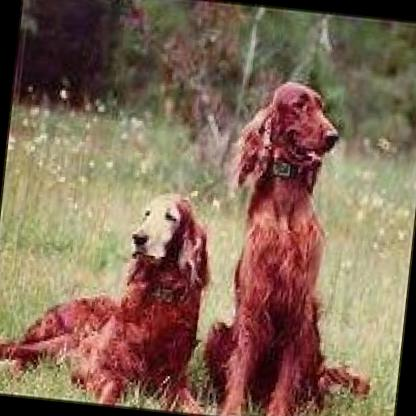Irish_setter: (189, 72, 406, 416), (0, 175, 219, 411)
